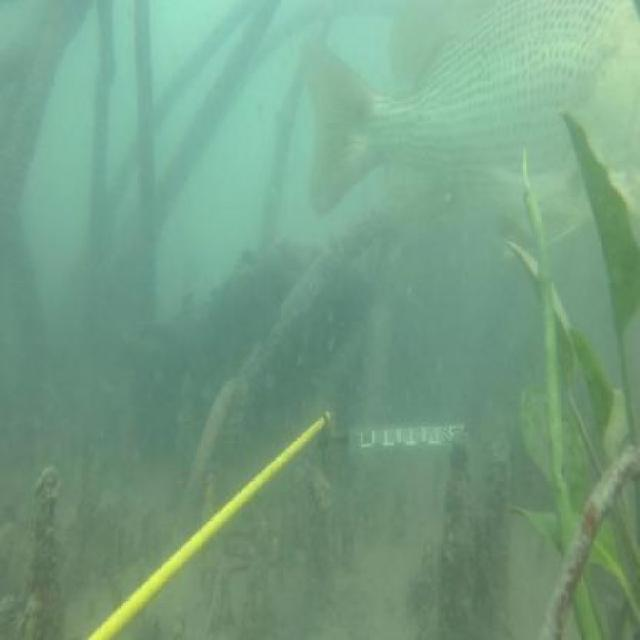lutjanus_johnii: (300, 0, 640, 258)
